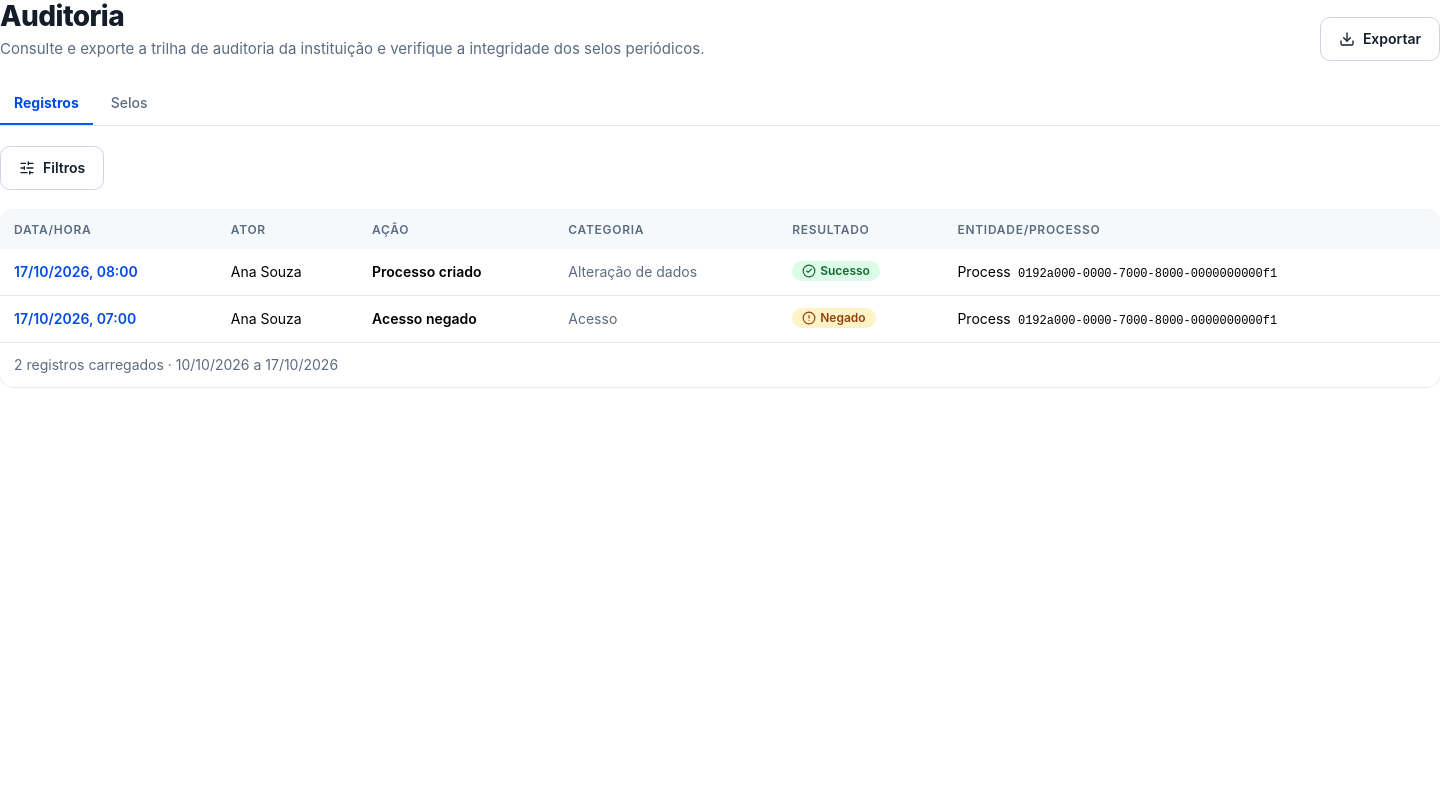
Scenario: [Sucesso] pesquisar e ver o detalhe (SCR-037 · AUD-01/AUD-02) › abrir um registro mostra o diff mascarado com "Antes"/"Depois" e permite filtrar pelo ator
Expected: the table named "Registros da trilha de auditoria" is shown, [0,210,1439,342]
Click the button named "Ver detalhe: Processo criado" at (76, 272), box [14,262,138,282]
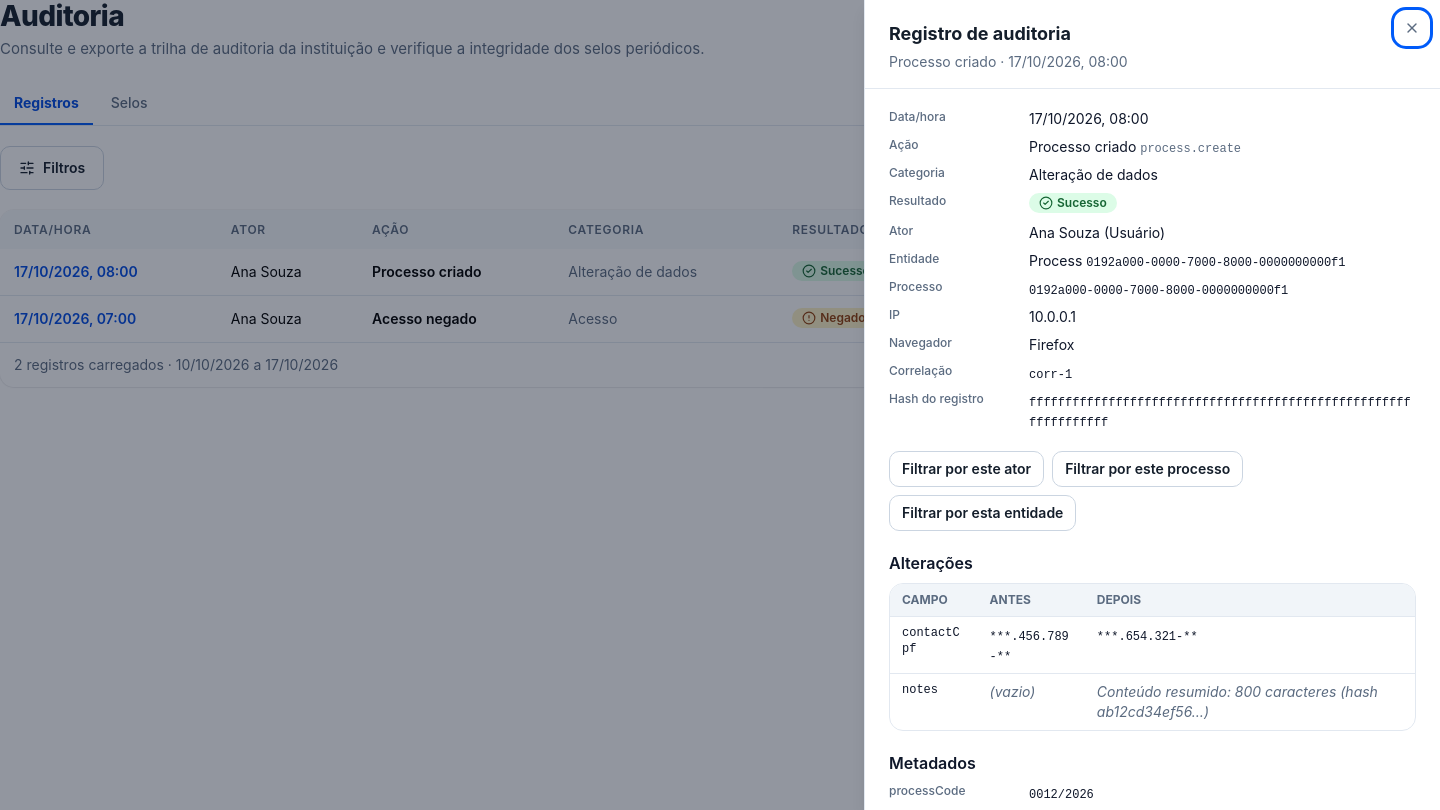
Expected: the column heading "Antes" is shown, [978,584,1085,616]
Expected: the column heading "Depois" is shown, [1085,584,1415,616]
Expected: the table named "Alterações do registro (antes e depois)" shows "***.456.789-**", [990,630,1069,664]
Click the button "Filtrar por este ator" at (967, 469), box [889,451,1044,487]
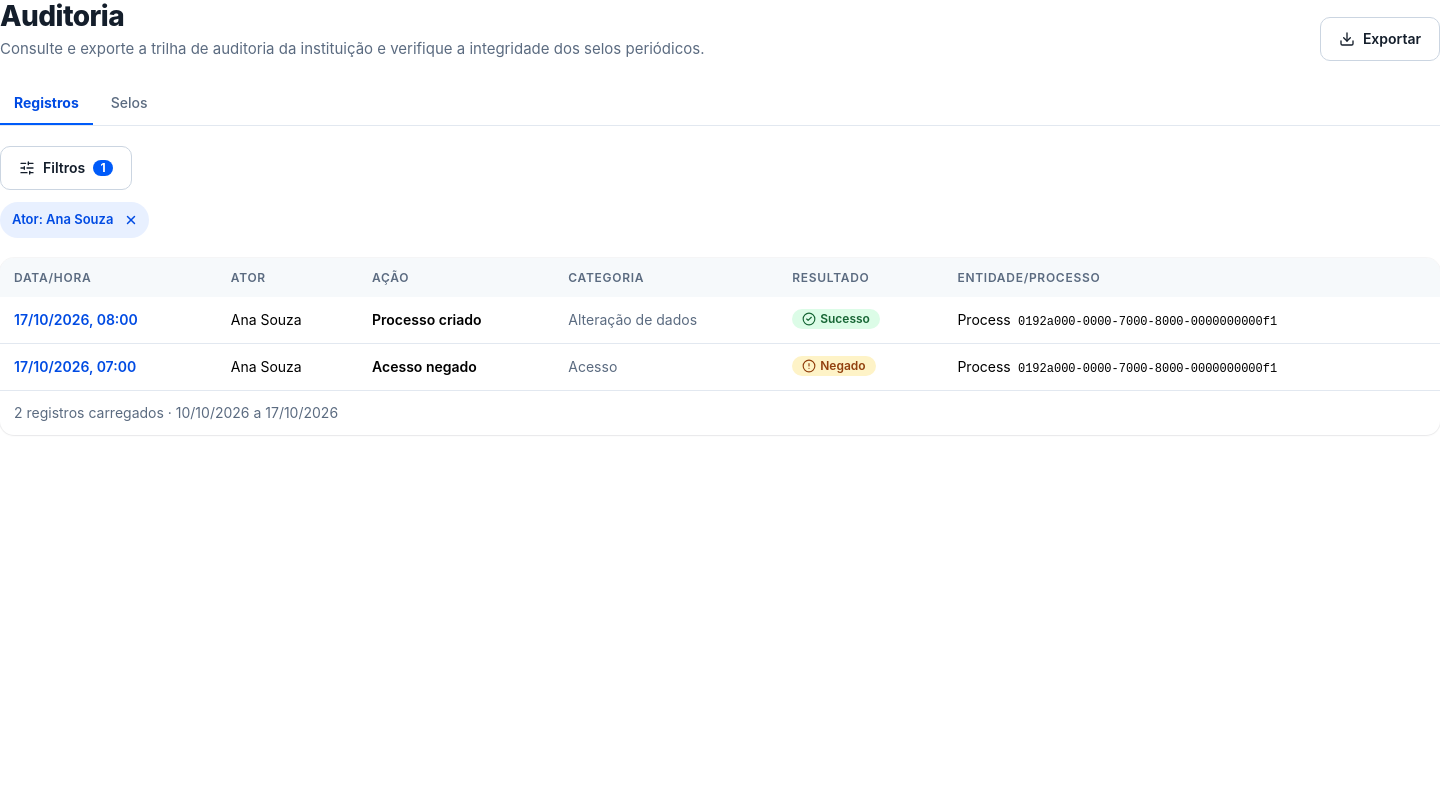
Expected: the text "Ator: Ana Souza" is shown, [0,202,149,238]
Expected: the button with aria-label "Filtros, 1 filtro ativo" is shown, [0,146,132,190]
